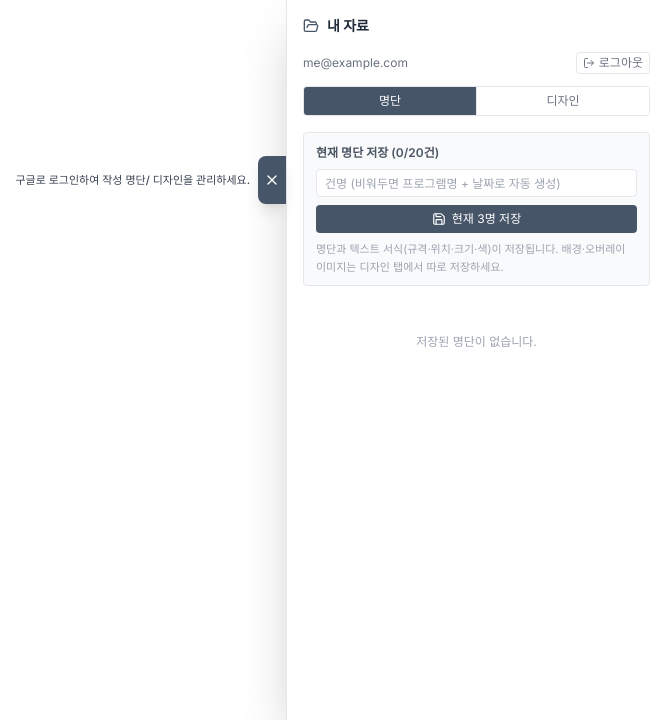
Test case: LibraryPanel › 로그인하면 한 창에서 명단·디자인 탭을 오갈 수 있다
Check: the text "현재 명단 저장 (0/20건)" is shown, box x1=316 y1=145 x2=439 y2=160
Check: the text "현재 디자인 저장" is not shown
Click the button "디자인" at (562, 101), box x1=476 y1=87 x2=649 y2=115
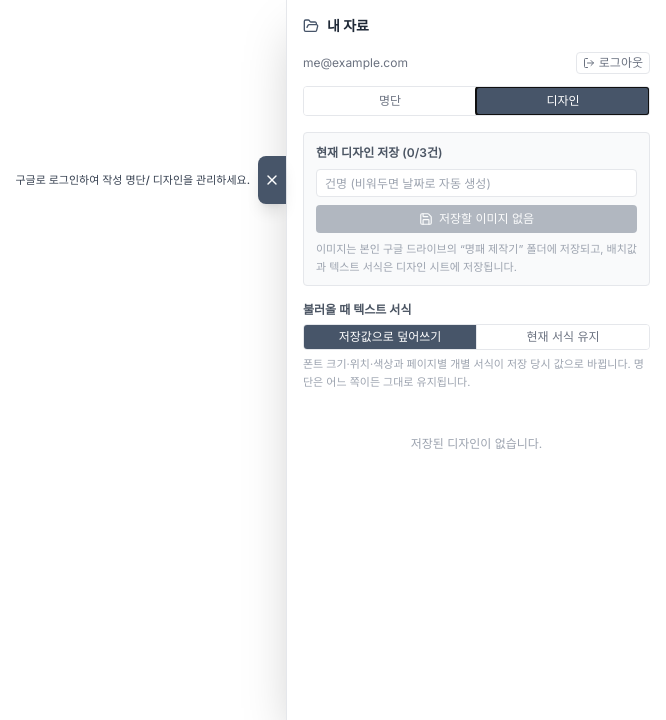
Check: the text "현재 디자인 저장 (0/3건)" is shown, box x1=316 y1=145 x2=442 y2=160
Check: the button "저장값으로 덮어쓰기" is shown, box x1=304 y1=325 x2=476 y2=349
Check: the button "현재 서식 유지" is shown, box x1=476 y1=325 x2=649 y2=349
Click the button "명단" at (390, 101), box x1=304 y1=87 x2=476 y2=115
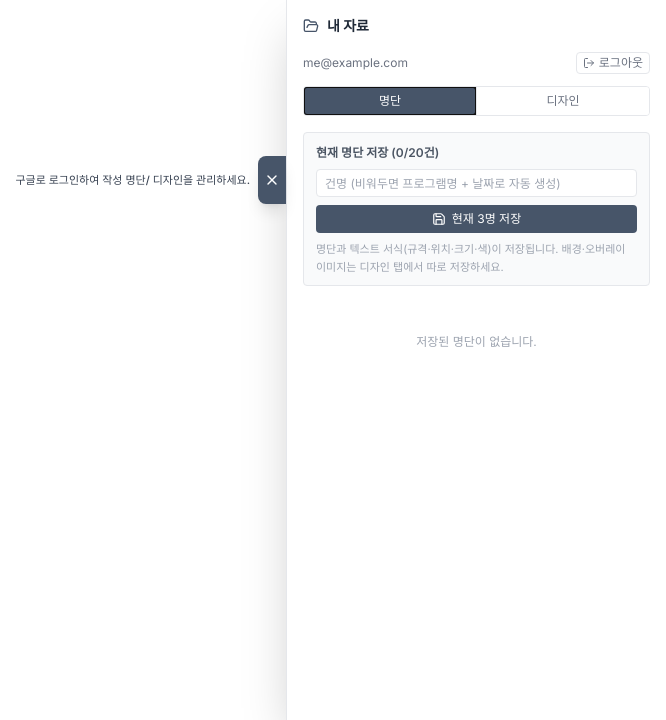
Check: the text "현재 명단 저장 (0/20건)" is shown, box x1=316 y1=145 x2=439 y2=160
